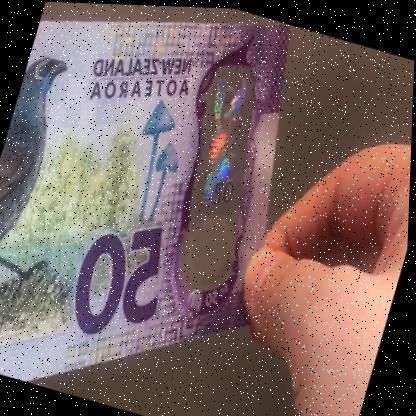50B: (162, 64, 272, 289)
